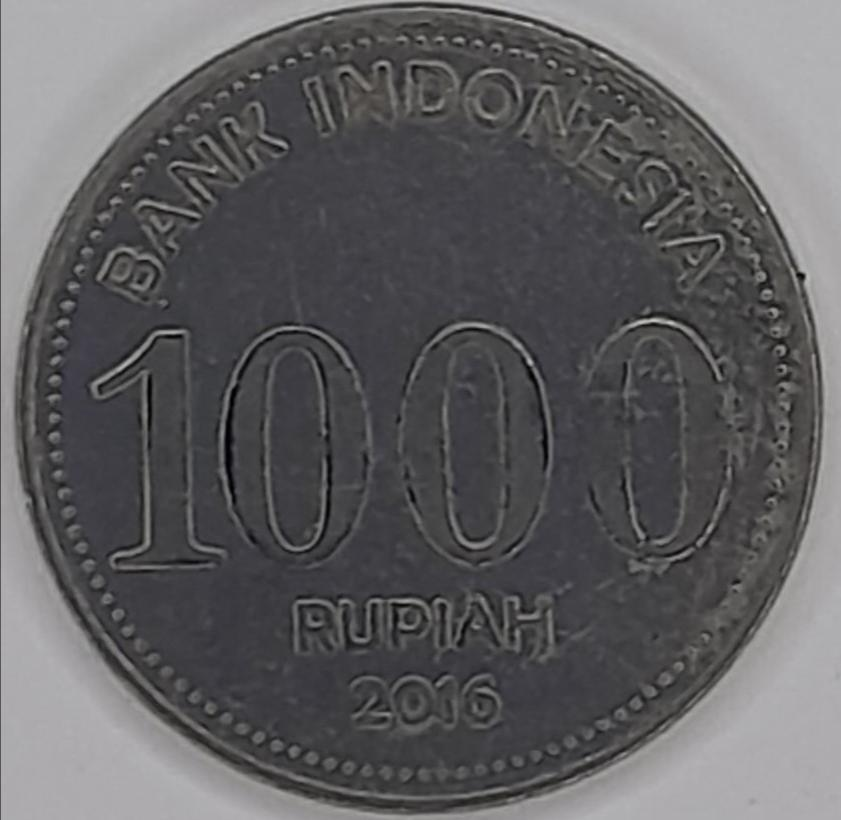coin_1000_e2016: (14, 16, 830, 820)
